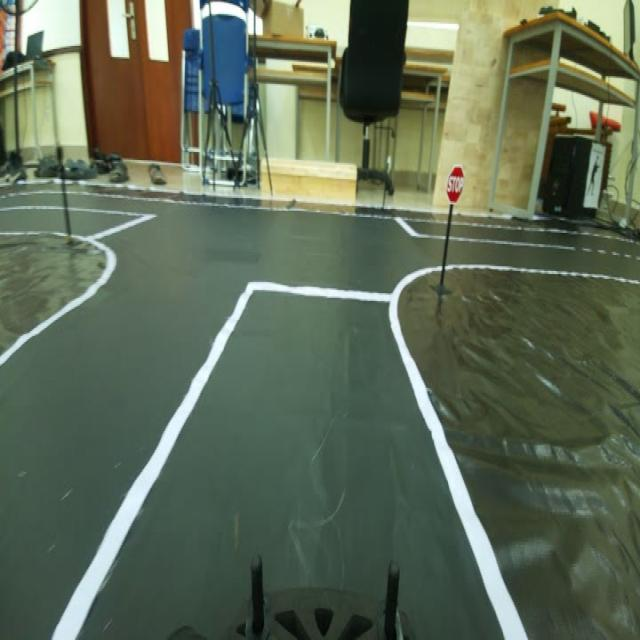stop: (441, 162, 469, 207)
